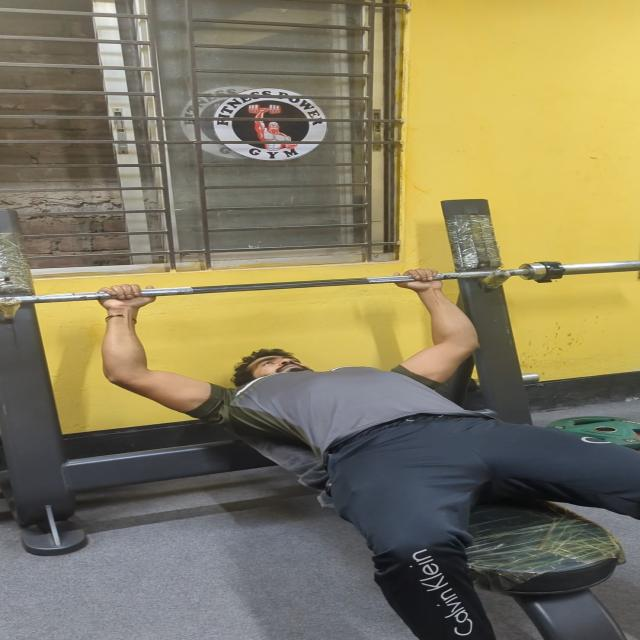Normal_BrenchPress: (57, 247, 640, 618)
